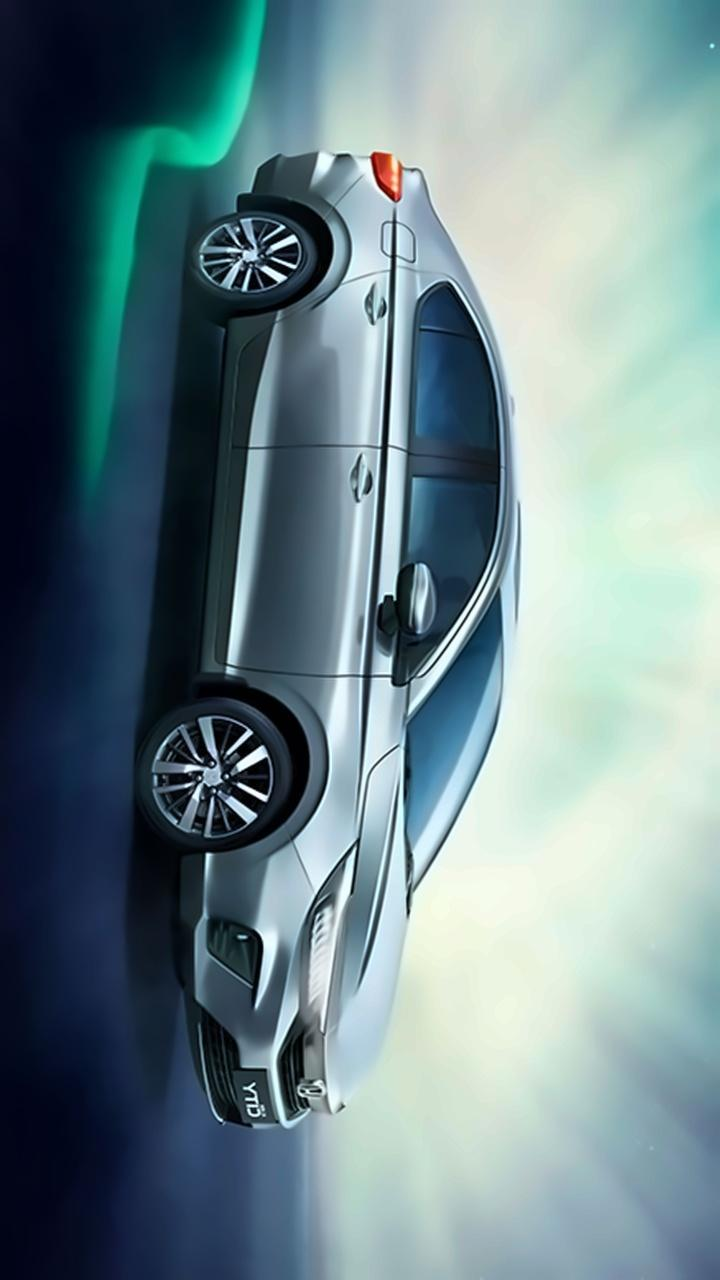Car hood: (320, 746, 414, 1111)
Driver-s door - -F-R-: (216, 440, 514, 686)
Fender - -F-R-: (204, 650, 426, 889)
Fender - -R-R-: (209, 157, 481, 322)
Front bumper: (176, 844, 312, 1153)
Headlight - -R-: (288, 834, 372, 1046)
Passenger-s door - -R-R-: (226, 254, 517, 444)
Rear bumper: (244, 136, 368, 208)
Rear light - -R-: (360, 144, 417, 208)
Side bumper - -R-: (190, 296, 257, 697)
Side mirror - -R-: (370, 546, 443, 646)
